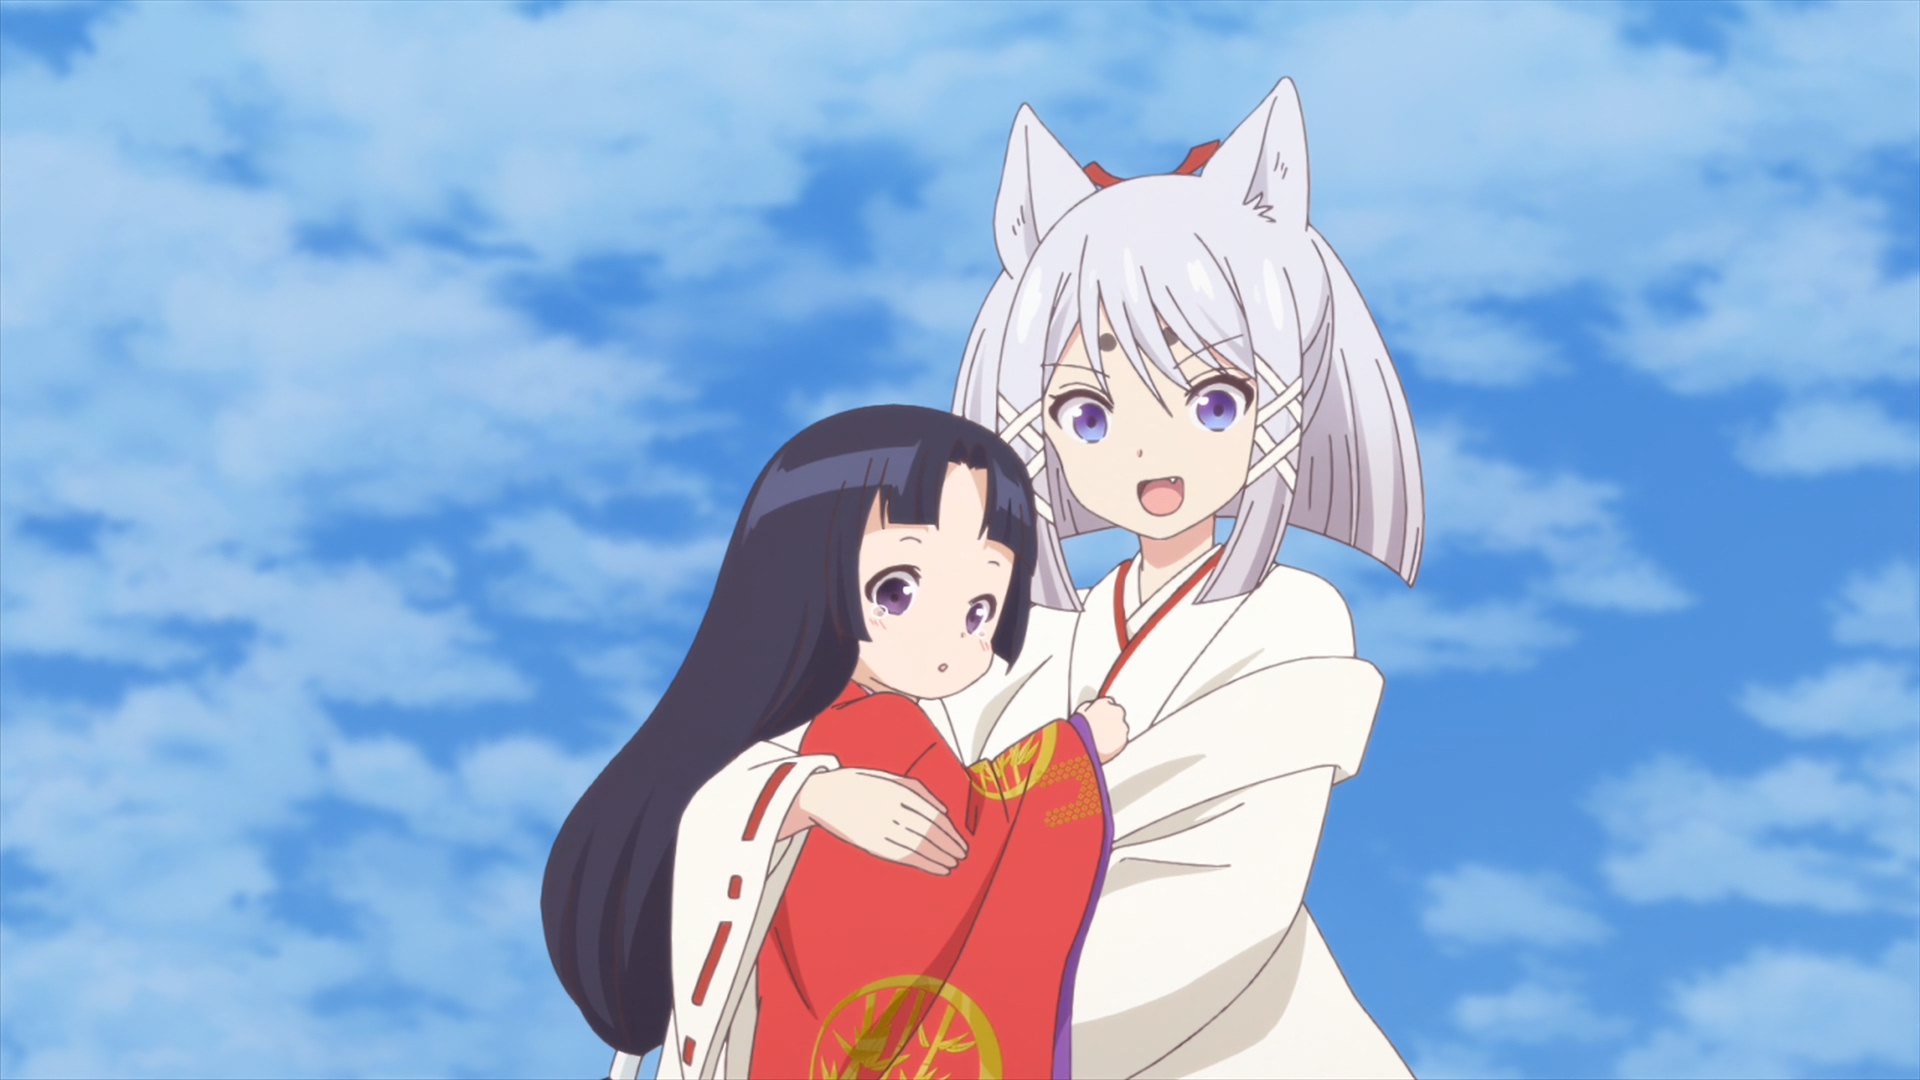其他: (538, 407, 1127, 1080)
柊: (659, 78, 1423, 1080)
